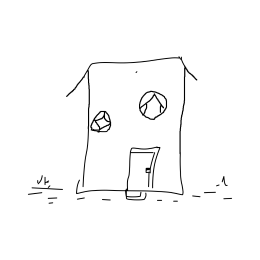door: (120, 145, 164, 195)
open_window: (135, 88, 172, 122), (88, 109, 115, 134)
single_line_roof: (63, 49, 203, 104)
wall: (73, 90, 194, 202)
